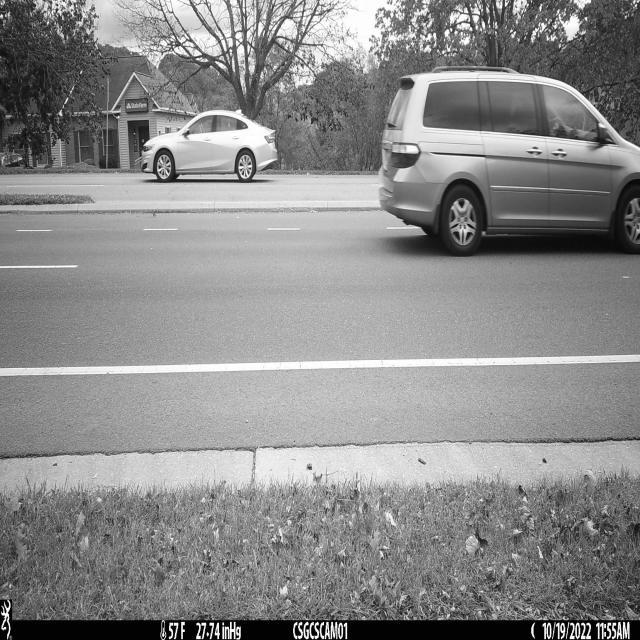Sedan: (141, 110, 278, 183)
Van: (378, 67, 640, 257)
